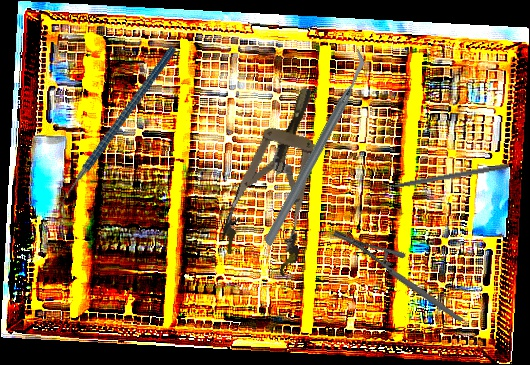Chopper: (207, 47, 422, 247), (16, 45, 219, 220)
Hook Surgical: (373, 162, 509, 193)
Needle Holder: (330, 199, 464, 354)
Speculum: (215, 77, 347, 279)
